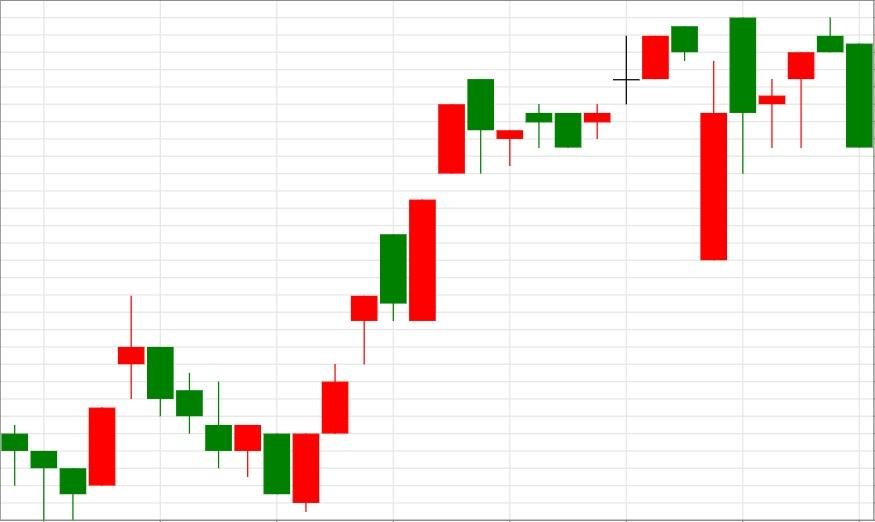bullish_engulfing_rise: (117, 294, 320, 512)
